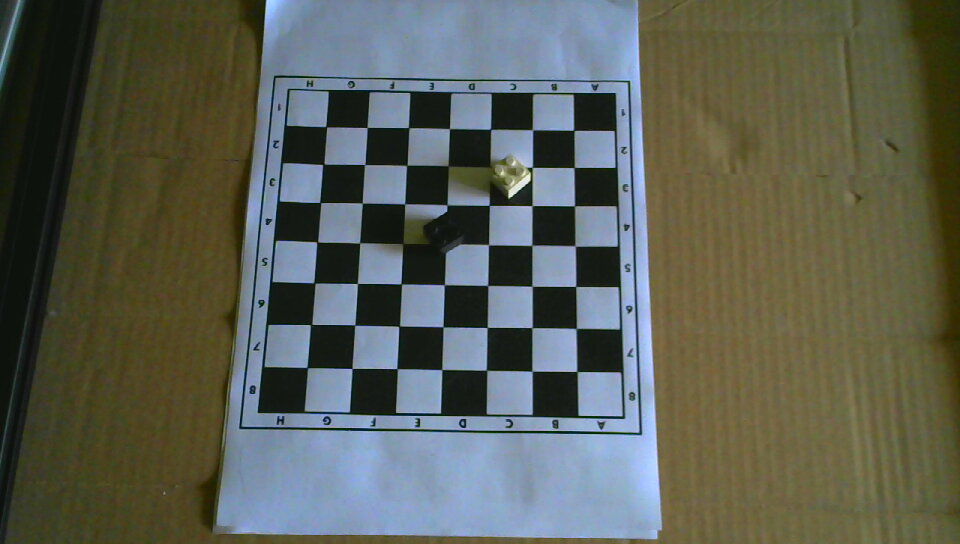bp: (422, 212, 467, 253)
wp: (489, 153, 531, 199)
